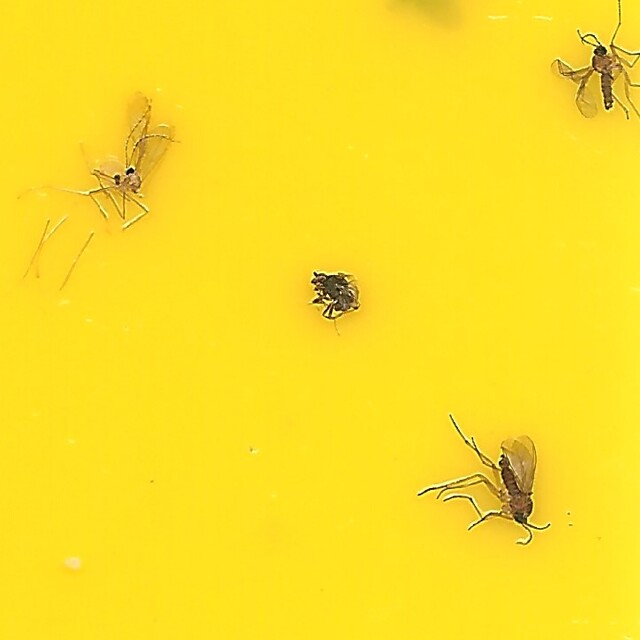Araneae: (310, 270, 360, 320)
Nematocera: (425, 415, 552, 547), (88, 93, 177, 226)
